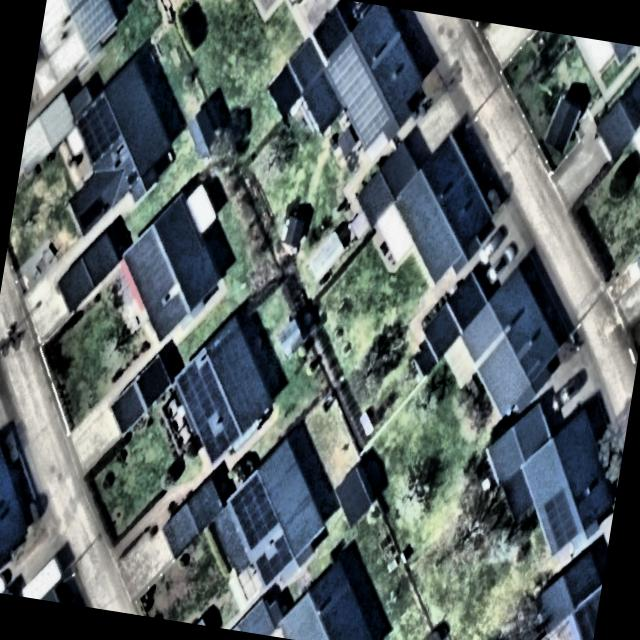roof_pv: (222, 468, 284, 554), (326, 84, 394, 150), (72, 91, 126, 168), (532, 484, 584, 555), (328, 40, 383, 90), (176, 358, 224, 413), (252, 536, 296, 587), (197, 428, 240, 468), (214, 391, 246, 433), (188, 412, 210, 432)
